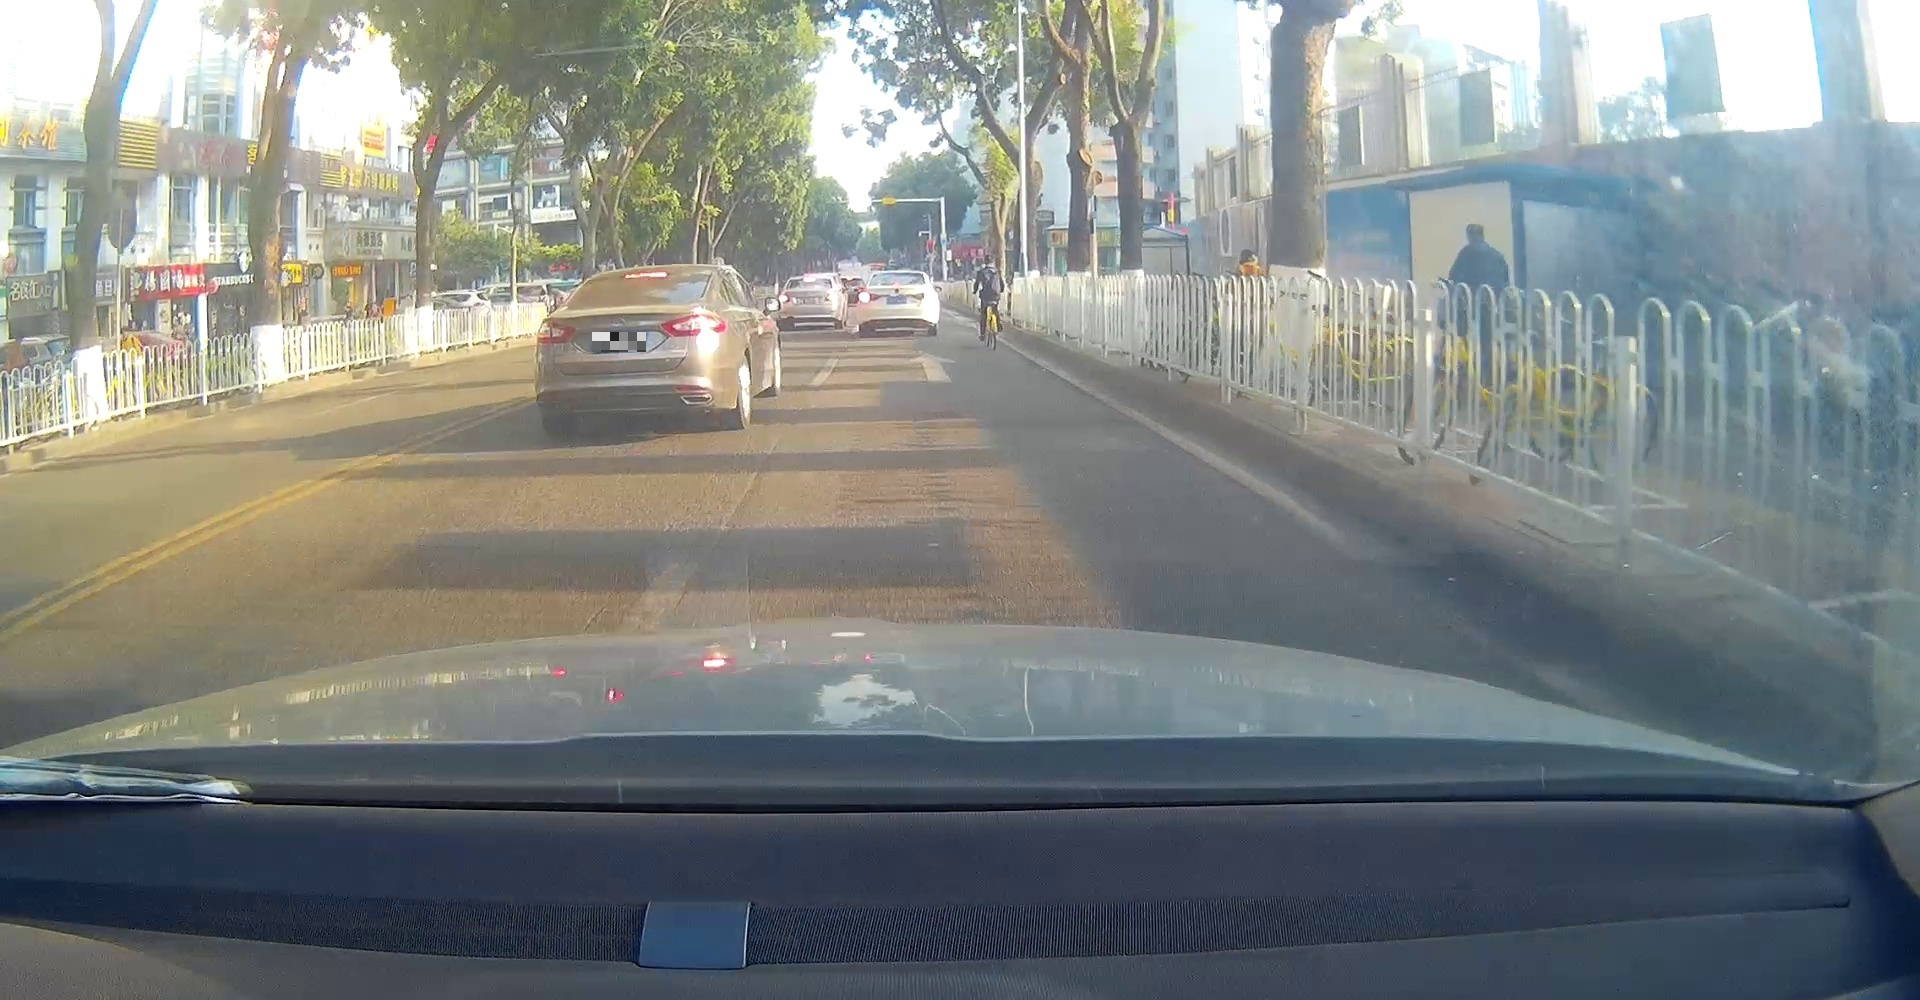L_light: (535, 320, 577, 344), (858, 291, 871, 303), (778, 294, 790, 303)
R_light: (658, 312, 725, 338), (912, 292, 928, 301), (825, 293, 837, 301)
T_light: (623, 270, 667, 278), (803, 277, 817, 282), (889, 282, 902, 286)
day-brake: (535, 264, 728, 433), (778, 275, 841, 329)
day-left: (856, 272, 933, 336)
plate_1: (592, 332, 646, 352)
